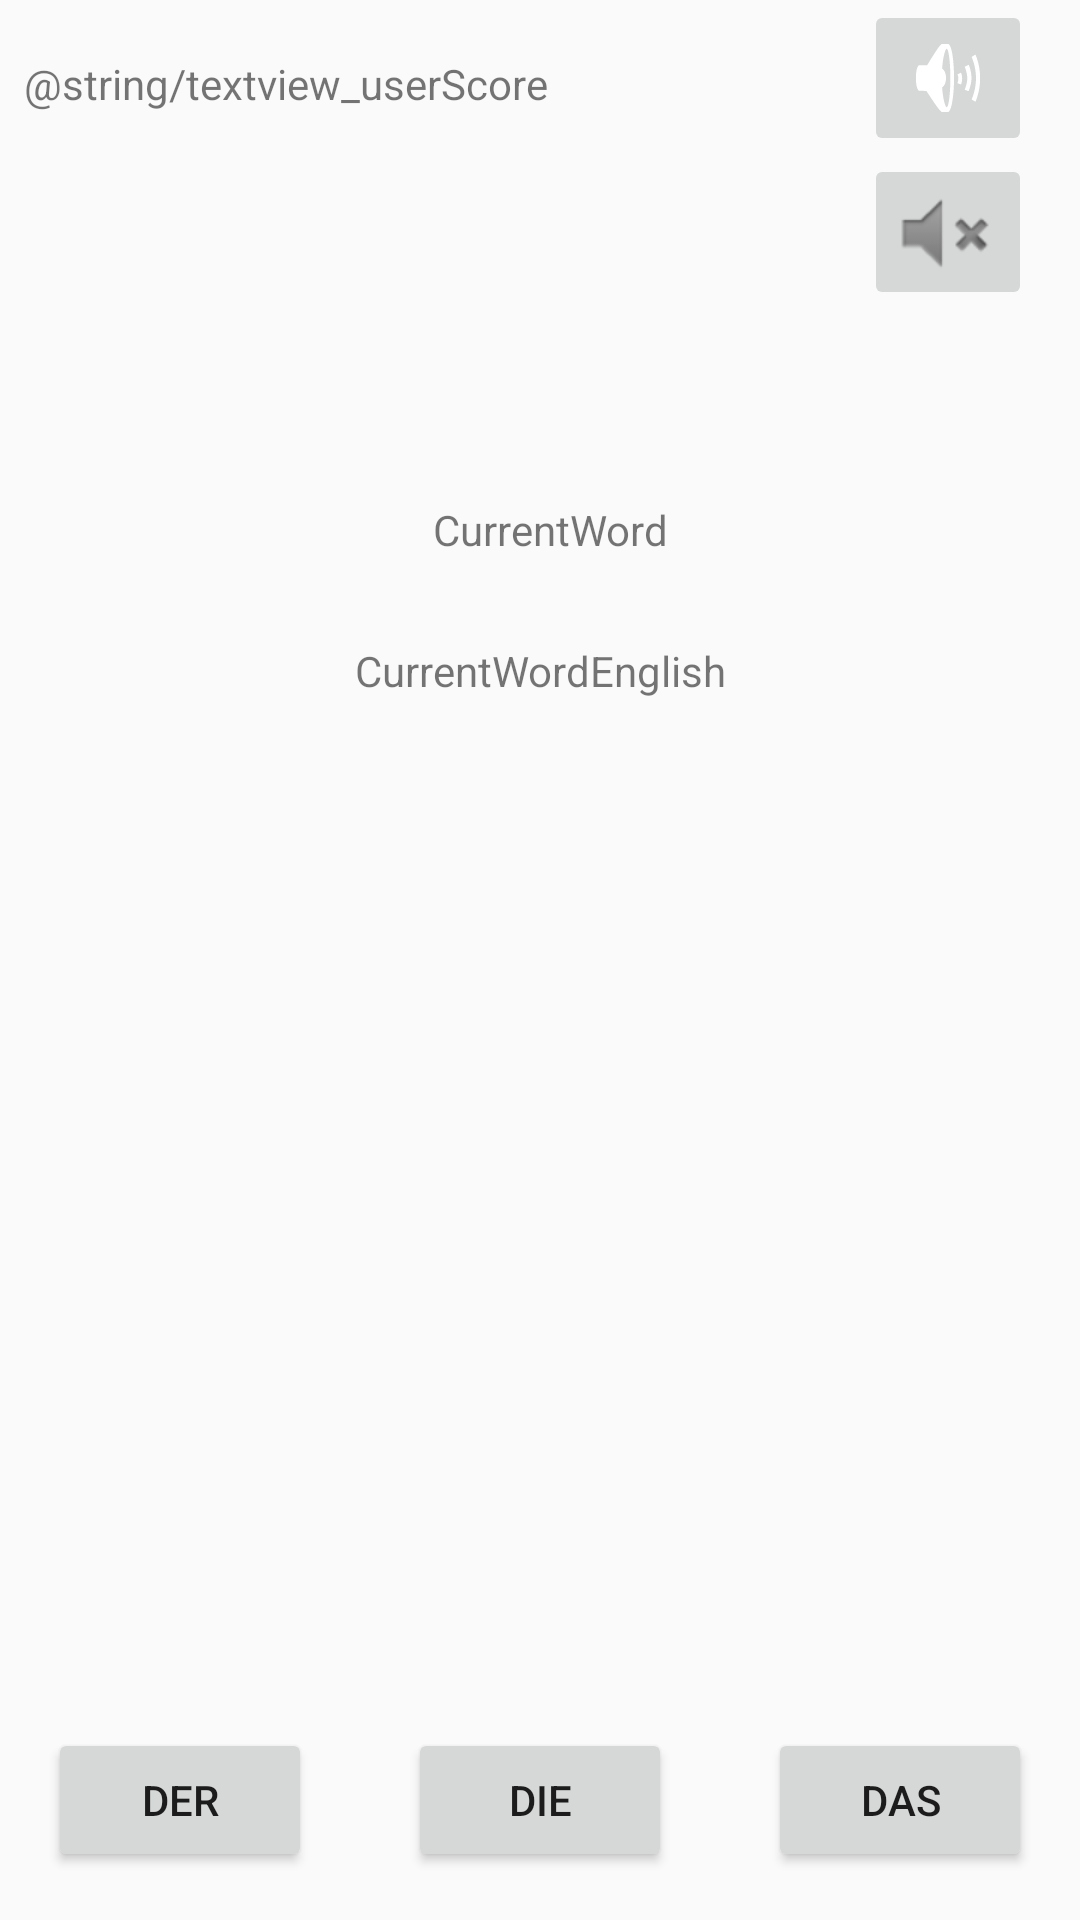

Icons on this 1080w x 1920h Android screen, each with its box as (x1, y1, x2, y2):
lock silent mode: (876, 172, 1020, 292)
lock silent mode off: (876, 18, 1020, 138)
